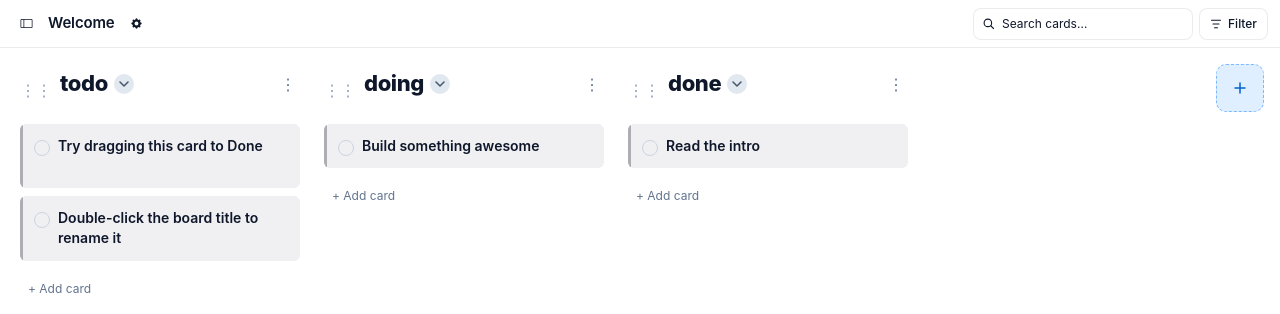
Test: BoardView › exits focus mode via the exit bar button
Expected: the heading "Todo" is shown, [60,71,108,97]
Step 1. Press the mouse on the button named "column menu Todo" → (288,84), box [276,68,300,100]
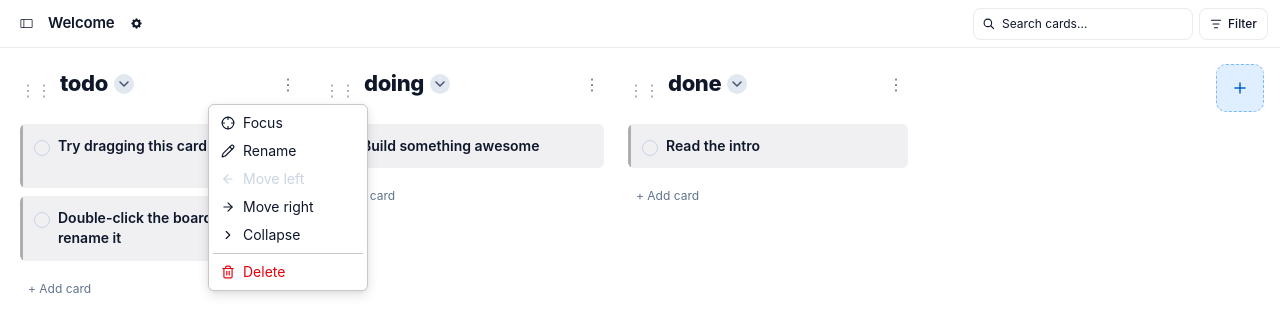
Step 2. Click the menu item "Focus" → (252,122), box [221,114,283,131]
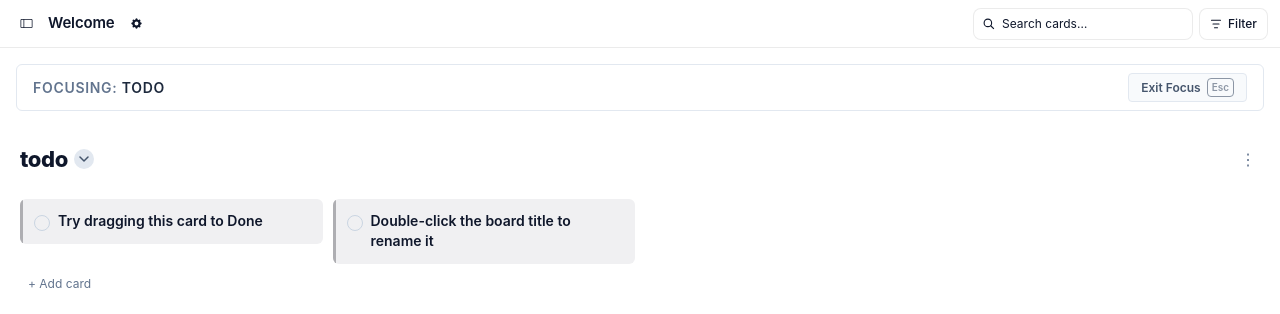
Now the text "Focusing: Todo" is shown, box [33,78,165,98]
Step 3. Click the button "Exit Focus Esc" → (1188,88), box [1128,73,1247,102]
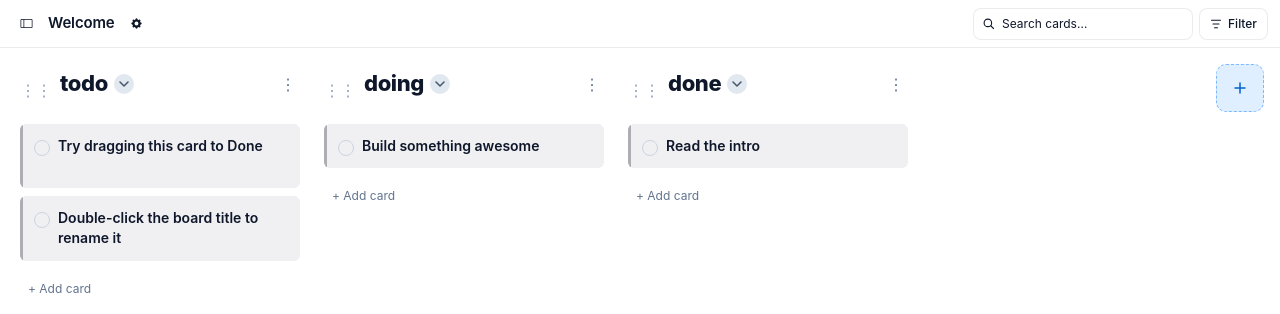
Now the heading "Doing" is shown, box [364,71,424,97]
Now the heading "Done" is shown, box [668,71,721,97]
Now the text "Focusing:" is gone
